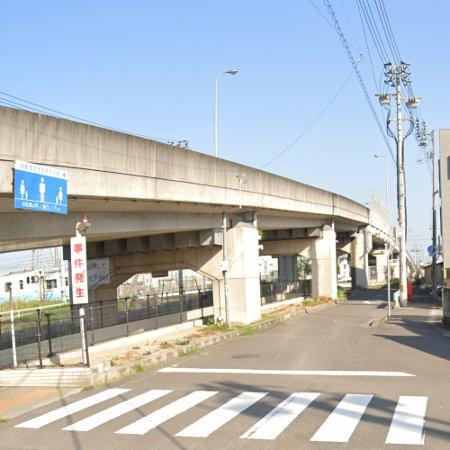crosswalks: (12, 387, 430, 447)
